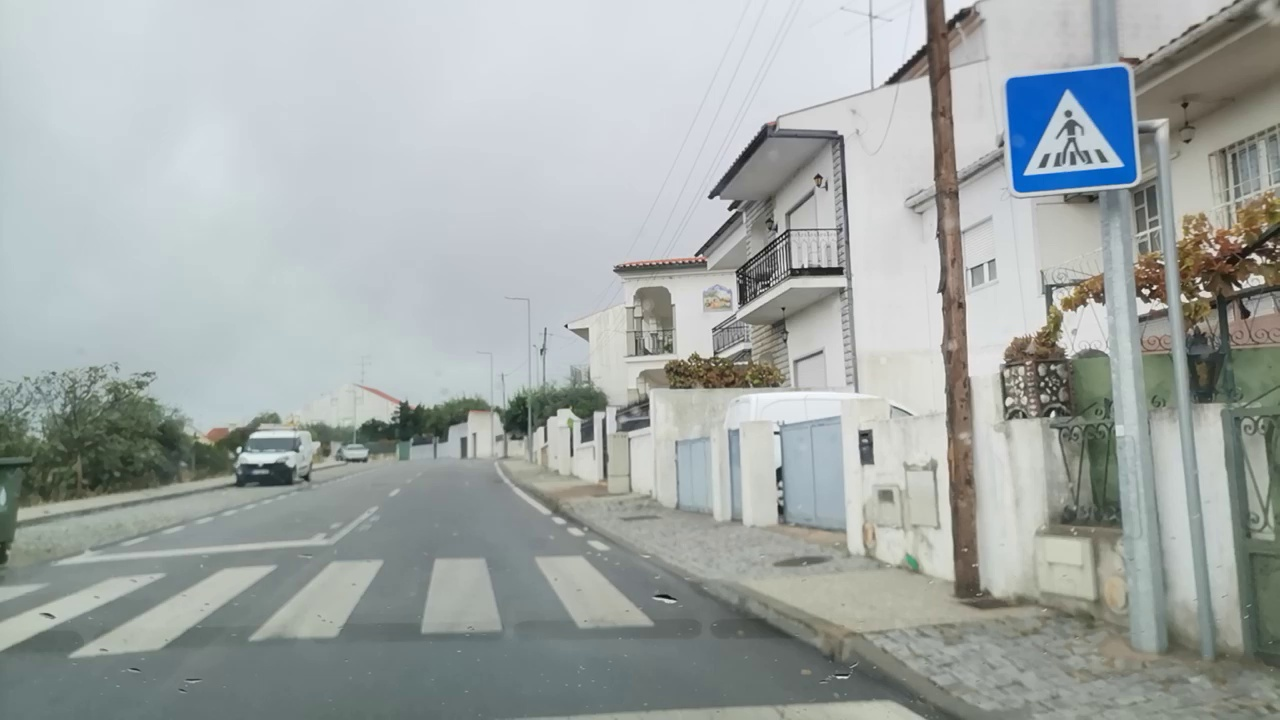Stairs: (0, 553, 658, 656)
